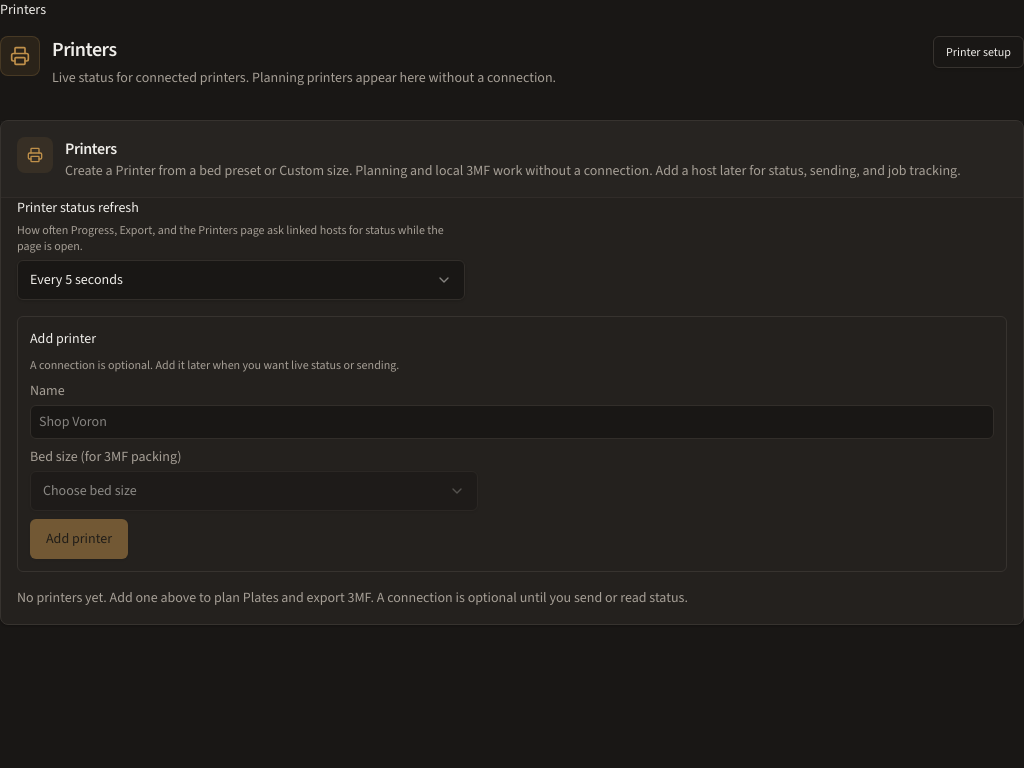
Test: PrintersPage › creates a planning Printer on this page without a connection
Type "Desk Voron" into the field with placeholder "Shop Voron" at point(512, 422), box [30, 405, 994, 439]
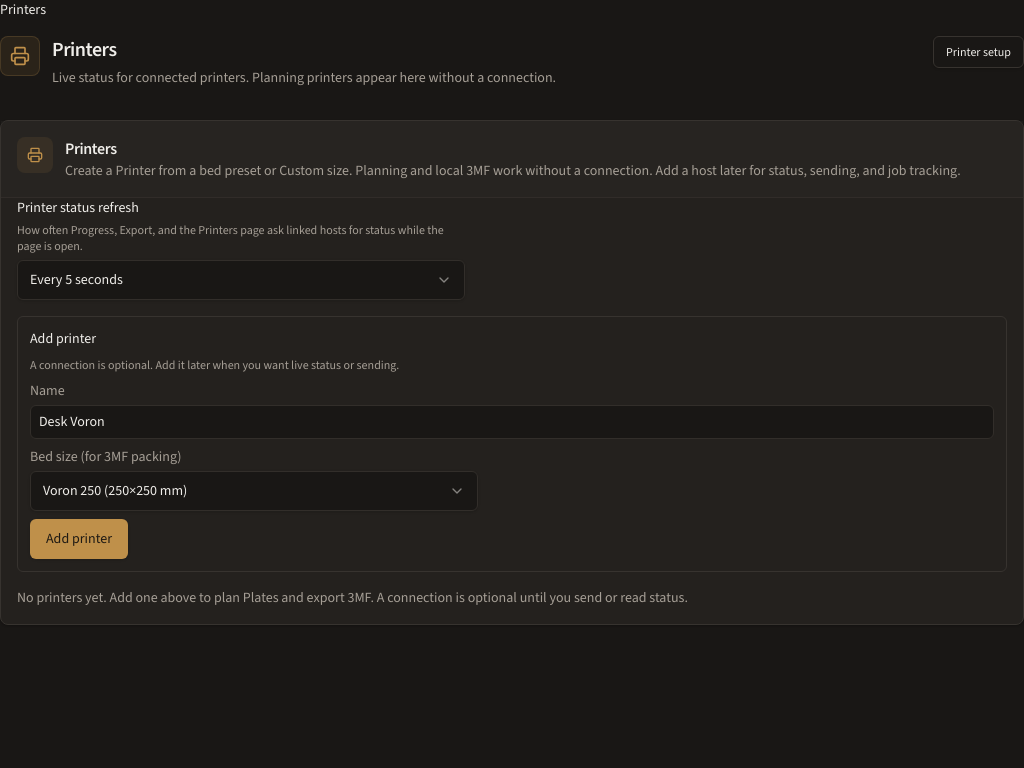
Click the button "Add printer" at point(79, 539), box [30, 519, 128, 559]
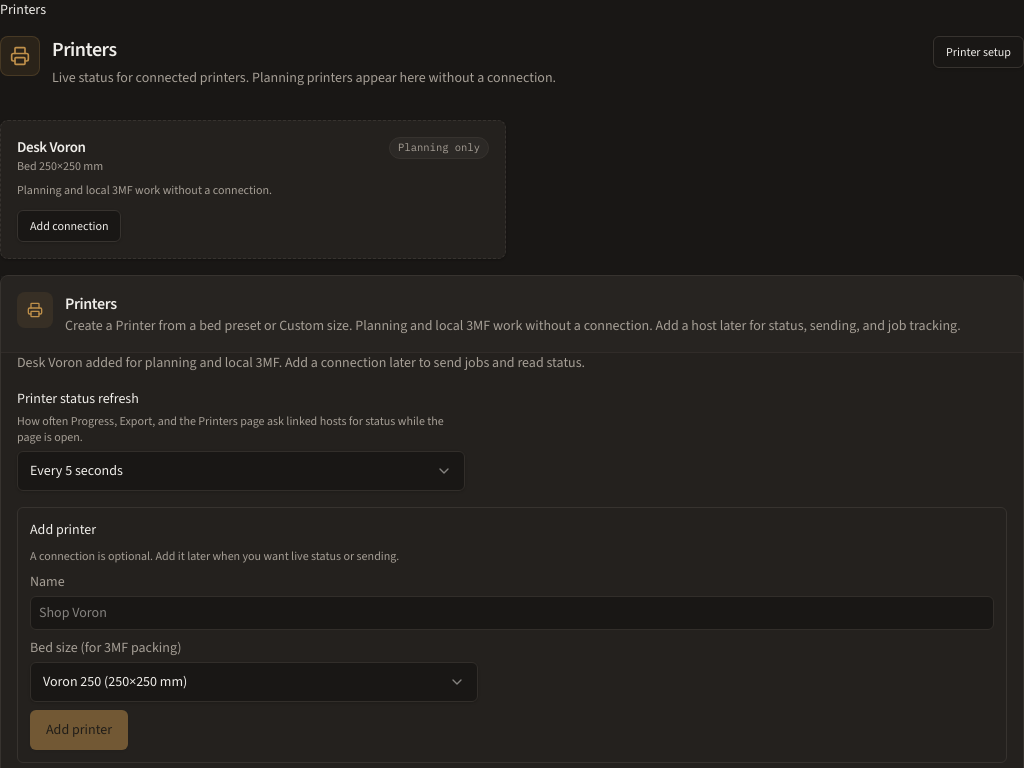
Result: the text "Planning only" is shown at [389, 137, 489, 159]
Result: the heading "Desk Voron" is shown at [17, 137, 86, 157]
